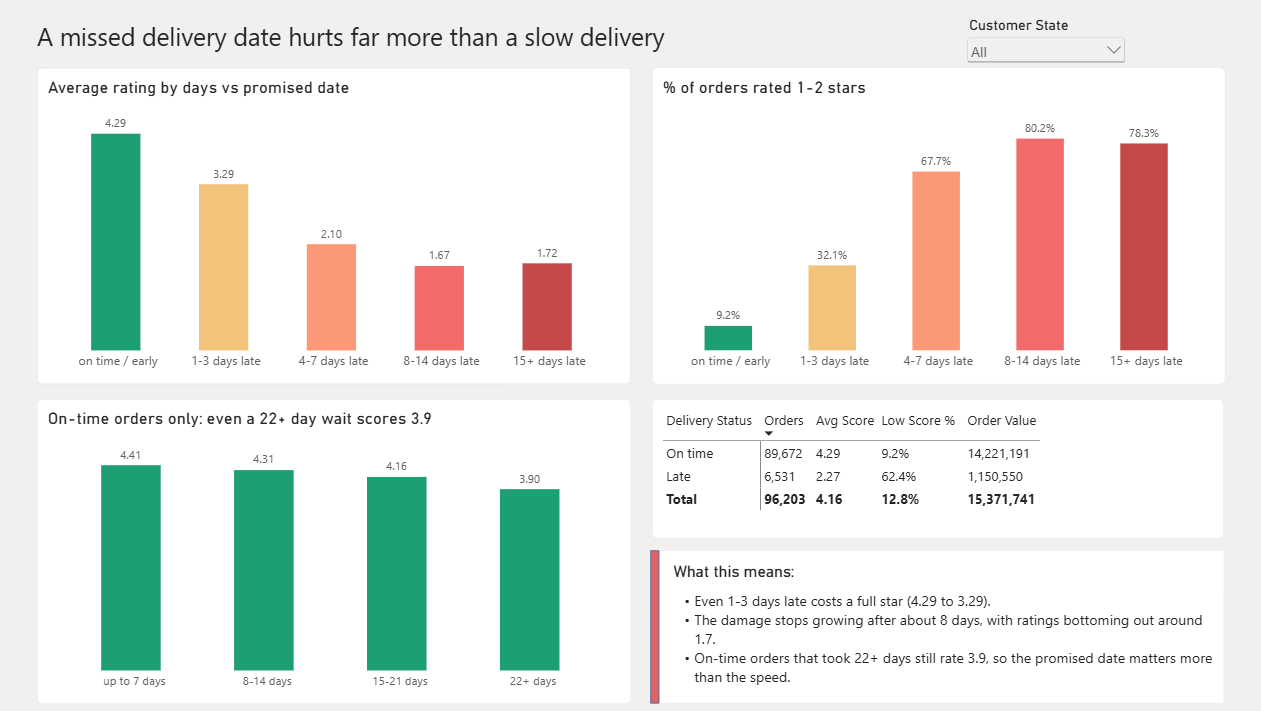

Layout of this report page (visuals, bound fields, positions):
{"tool":"powerbi","page":{"name":"Delivery vs Satisfaction","canvas":[1920,1080],"ordinal":1},"visuals":[{"type":"textbox","box":[60,30,1151.3,71.8],"z":0},{"type":"clusteredColumnChart","title":"Average rating by days vs promised date","fields":{"Category":["bi_orders.Delay Label"],"Y":["bi_orders.Avg Score"]},"box":[60,102.5,900,480],"z":1000},{"type":"clusteredColumnChart","title":"% of orders rated 1-2 stars","fields":{"Category":["bi_orders.Delay Label"],"Y":["bi_orders.Low Score %"]},"box":[990,102.5,868.6,479.8],"z":2000},{"type":"clusteredColumnChart","title":"On-time orders only: even a 22+ day wait scores 3.9","fields":{"Category":["bi_orders.Delivery Time Label"],"Y":["bi_orders.Avg Score"]},"box":[60,605,900,461.7],"z":3000},{"type":"pivotTable","fields":{"Rows":["bi_orders.Delivery Status"],"Values":["bi_orders.Orders","bi_orders.Avg Score","bi_orders.Low Score %","bi_orders.Order Value"]},"box":[990,605,866.1,211.6],"z":4000},{"type":"textbox","title":"What this means:","box":[1001.7,835,855,231.7],"z":5000},{"type":"slicer","fields":{"Values":["bi_orders.customer_state"]},"box":[1462.5,25,248.7,94.9],"z":6000},{"type":"shape","box":[988.3,835,13.3,231.7],"z":7000}]}

Visuals, with their boxes in screenshot pixels (x1, y1, x2, y2), scaled from the page's 1920x1080 canvas onto the 1261x711 screenshot:
textbox: <box>39,20,796,67</box>
"Average rating by days vs promised date" clusteredColumnChart: <box>39,67,630,383</box>
"% of orders rated 1-2 stars" clusteredColumnChart: <box>650,67,1221,383</box>
"On-time orders only: even a 22+ day wait scores 3.9" clusteredColumnChart: <box>39,398,630,702</box>
pivotTable - bi_orders.Delivery Status x bi_orders.Orders: <box>650,398,1219,538</box>
"What this means:" textbox: <box>658,550,1219,702</box>
slicer - bi_orders.customer_state: <box>961,16,1124,79</box>
shape: <box>649,550,658,702</box>
